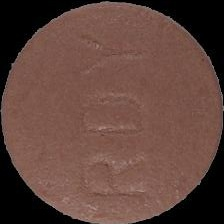76519-1004: (0, 0, 224, 224)
